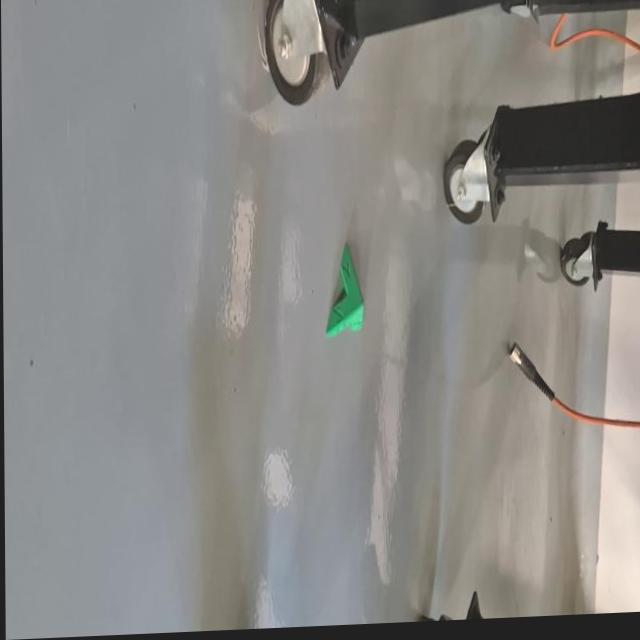eje: (323, 241, 364, 341)
